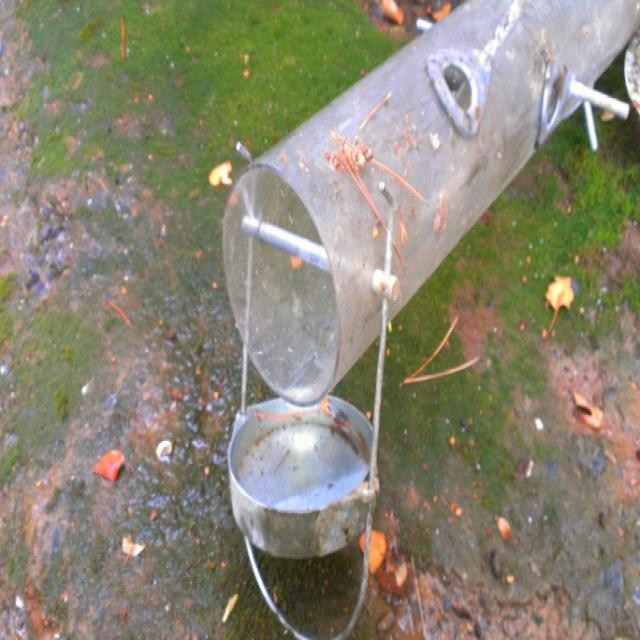Breeding Place: (220, 0, 640, 566)
